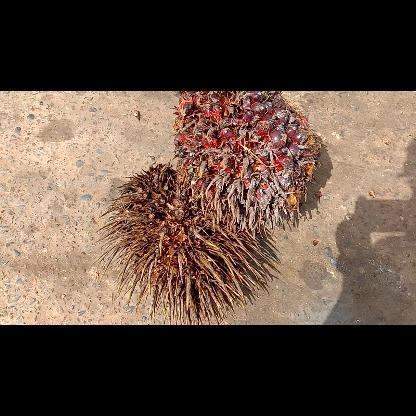Janjang kosong: (94, 162, 270, 324)
TBS masak: (171, 91, 322, 237)
